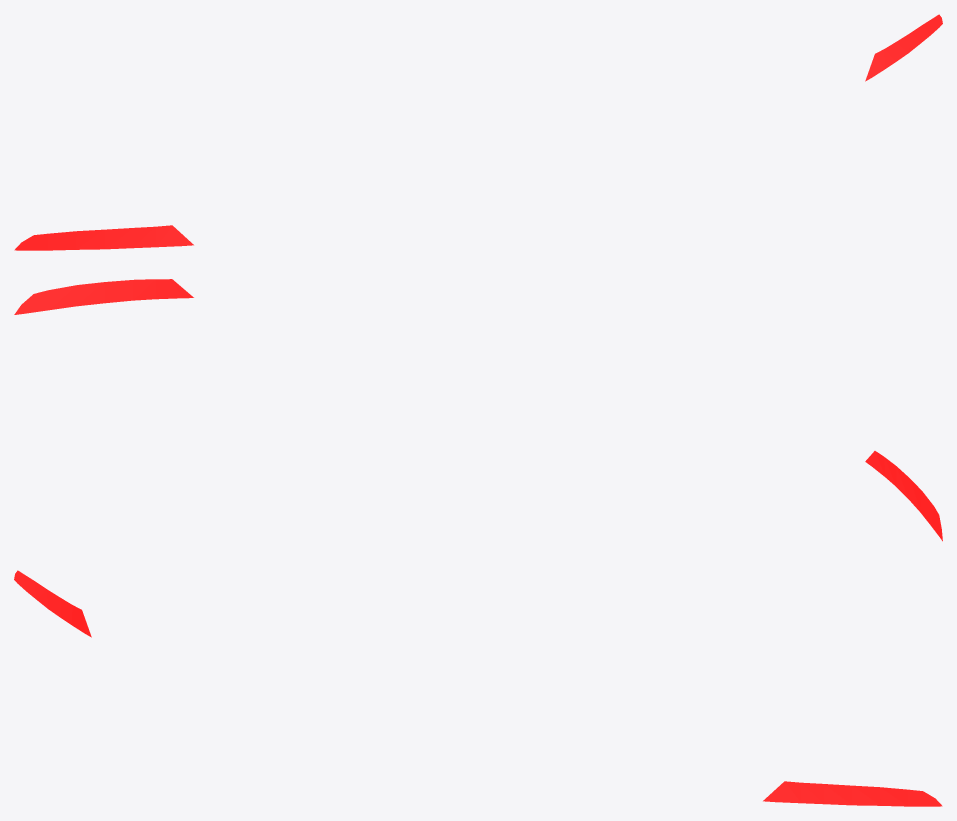
File: rare_light.glb
3 views of the same model, one above another, from view 1: azimuth 30°, elevation 25°; view 2: azimuth 150°, elevation 25°; view 3: azimuth 330°, elevation 25° (orthographic).
Parts seen in each view (by area): view 1: rare_light; view 2: rare_light; view 3: rare_light.
Boxes of the visible parts, left/top/right/bottom form: rare_light: left=14, top=14, right=942, bottom=250; rare_light: left=14, top=279, right=942, bottom=541; rare_light: left=14, top=570, right=942, bottom=806.
Bounding box in the file's own units: 1.46 × 0.046 × 0.1399.
